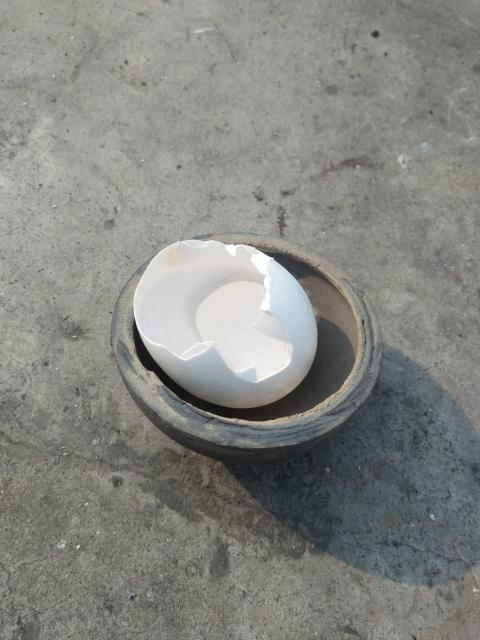Roto: (132, 238, 318, 410)
